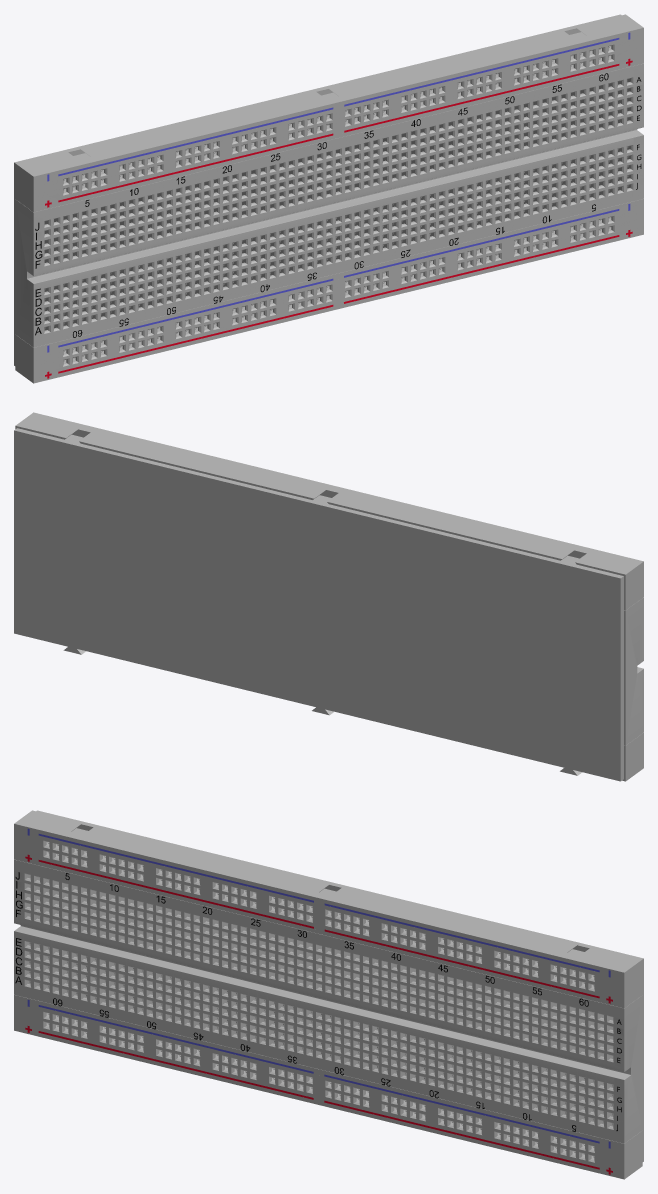
The model's file is protoboardOficial.fbx.
The picture shows the model from 3 angles, top to bottom: view 1: azimuth 30°, elevation 25°; view 2: azimuth 150°, elevation 25°; view 3: azimuth 330°, elevation 25°; orthographic projection.
Parts seen in each view (by area): view 1: Protoboard; view 2: Protoboard; view 3: Protoboard.
Part boxes in pixels (x1,y1,x2,y2): Protoboard: [14, 14, 643, 383]; Protoboard: [14, 412, 643, 781]; Protoboard: [14, 810, 643, 1179].
Bounding box in the file's own units: 16.35 × 5.45 × 1.
